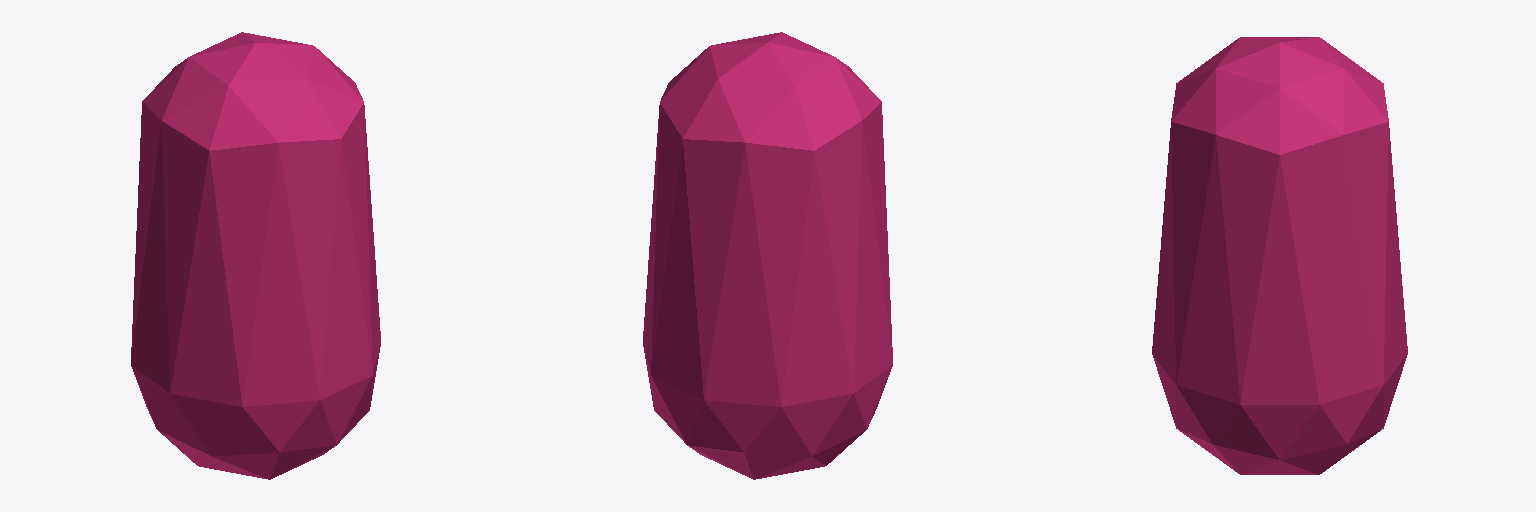
File: bean3.obj
The picture shows the model from 3 angles: view 1: azimuth 30°, elevation 25°; view 2: azimuth 150°, elevation 25°; view 3: azimuth 270°, elevation 25°; orthographic projection.
Visible parts, largest first — view 1: Icosphere; view 2: Icosphere; view 3: Icosphere.
Boxes of the visible parts, x1=… form: Icosphere: x1=131, y1=32, x2=380, y2=479; Icosphere: x1=643, y1=32, x2=892, y2=479; Icosphere: x1=1152, y1=37, x2=1407, y2=474.
Size of the model in its own units: 9.51 by 18.39 by 10.